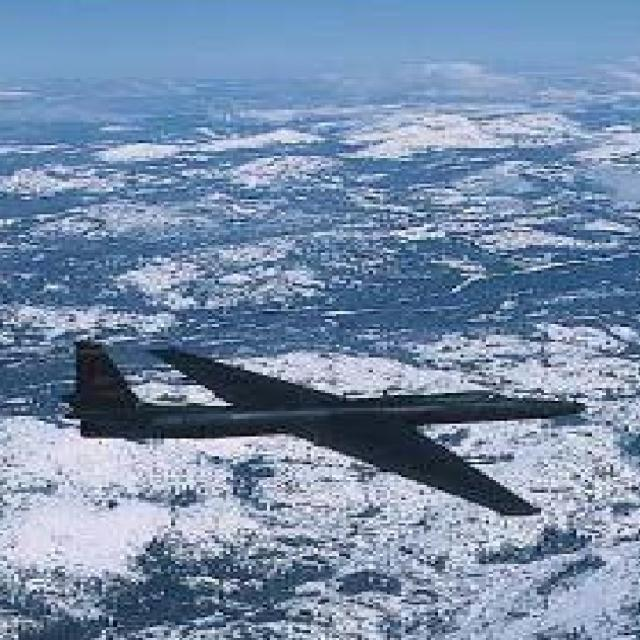MIL_Plane: (59, 340, 588, 516)
